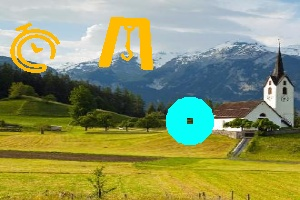时钟: (10, 23, 58, 71)
钩子: (102, 16, 154, 73)
铜钱: (164, 97, 217, 142)
